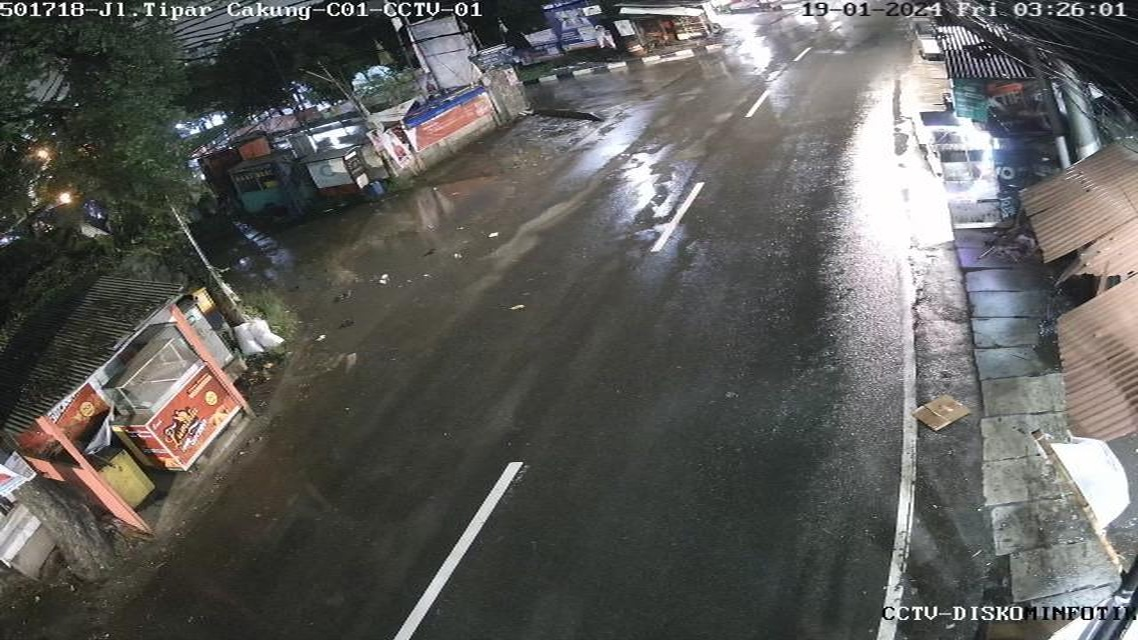Gerobak: (355, 7, 538, 181), (78, 330, 258, 479), (4, 374, 162, 536), (203, 147, 318, 235), (283, 145, 397, 209)
